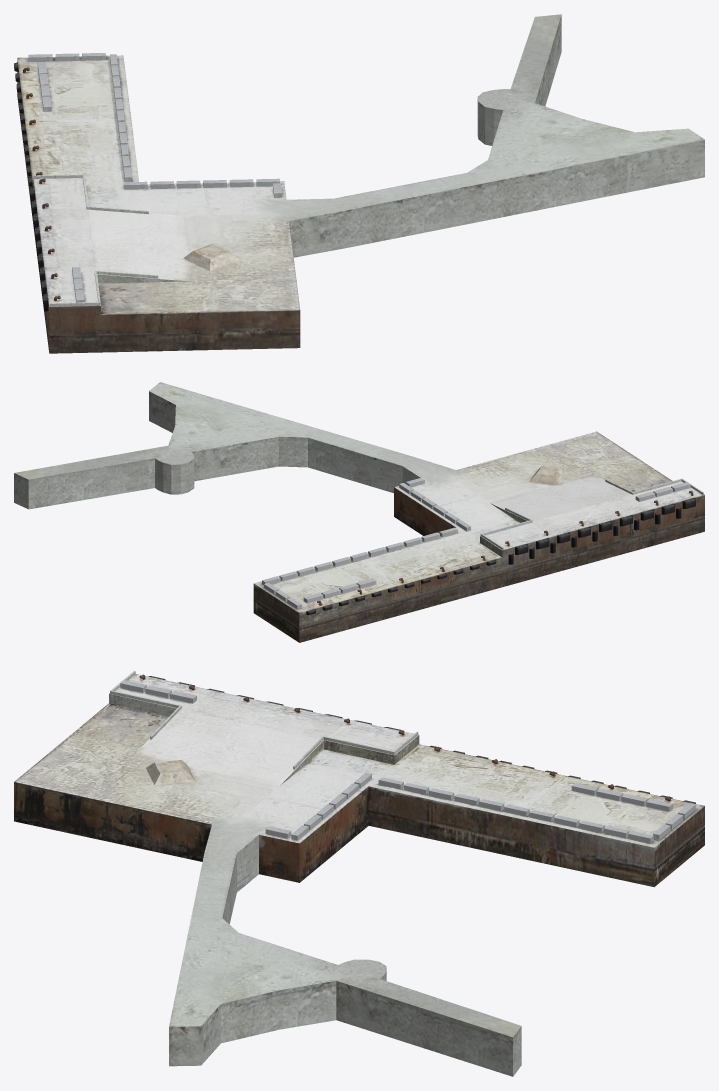
Rendered from Dokdo_Port.FBX.
The picture shows the model from 3 angles, top to bottom: view 1: azimuth 30°, elevation 25°; view 2: azimuth 150°, elevation 25°; view 3: azimuth 270°, elevation 25°; orthographic projection. The views are drawn at different scales.
Parts seen in each view (by area): view 1: Dokdo_Port; view 2: Dokdo_Port; view 3: Dokdo_Port.
Boxes of the visible parts, box(x1,y1,x2,y2) form: Dokdo_Port: box(14, 14, 704, 353); Dokdo_Port: box(14, 382, 704, 642); Dokdo_Port: box(14, 671, 704, 1076).
Size of the model in its own units: 106 by 86.94 by 7.47.
